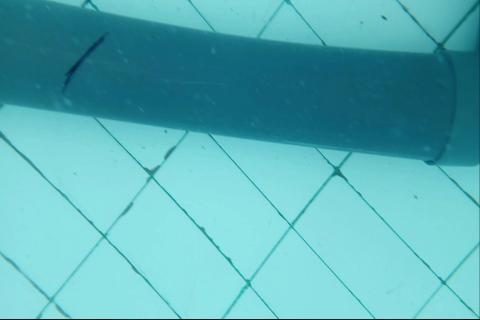keretakan: (61, 29, 108, 93)
